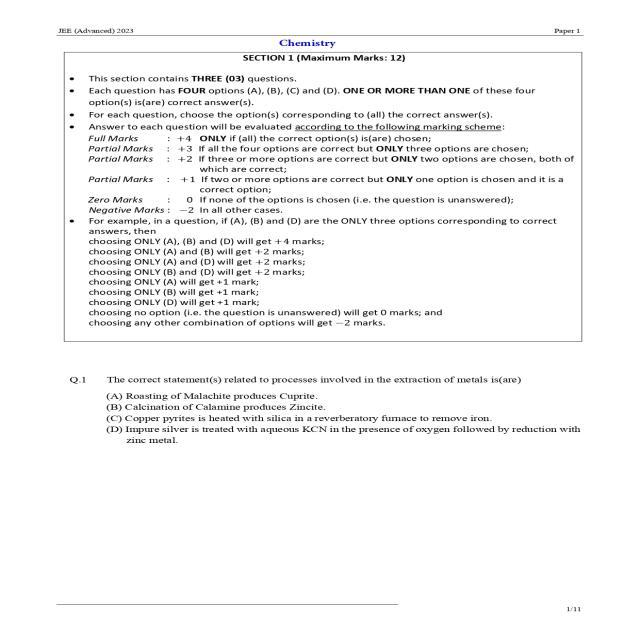Answer_Block: (30, 390, 608, 462)
Instruction: (36, 49, 614, 361)
Question_Answer_Block: (35, 368, 610, 461)
Question_Block: (34, 370, 612, 390)
Question_Paper_Area: (31, 11, 620, 502)
